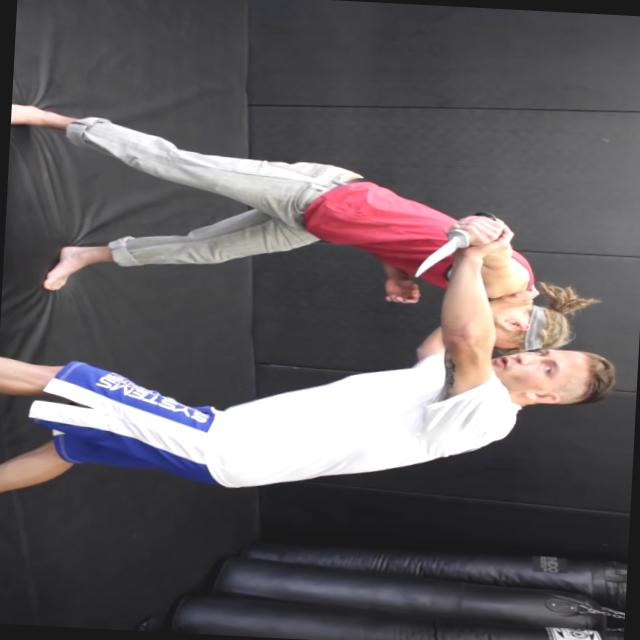knife: (402, 205, 504, 288)
